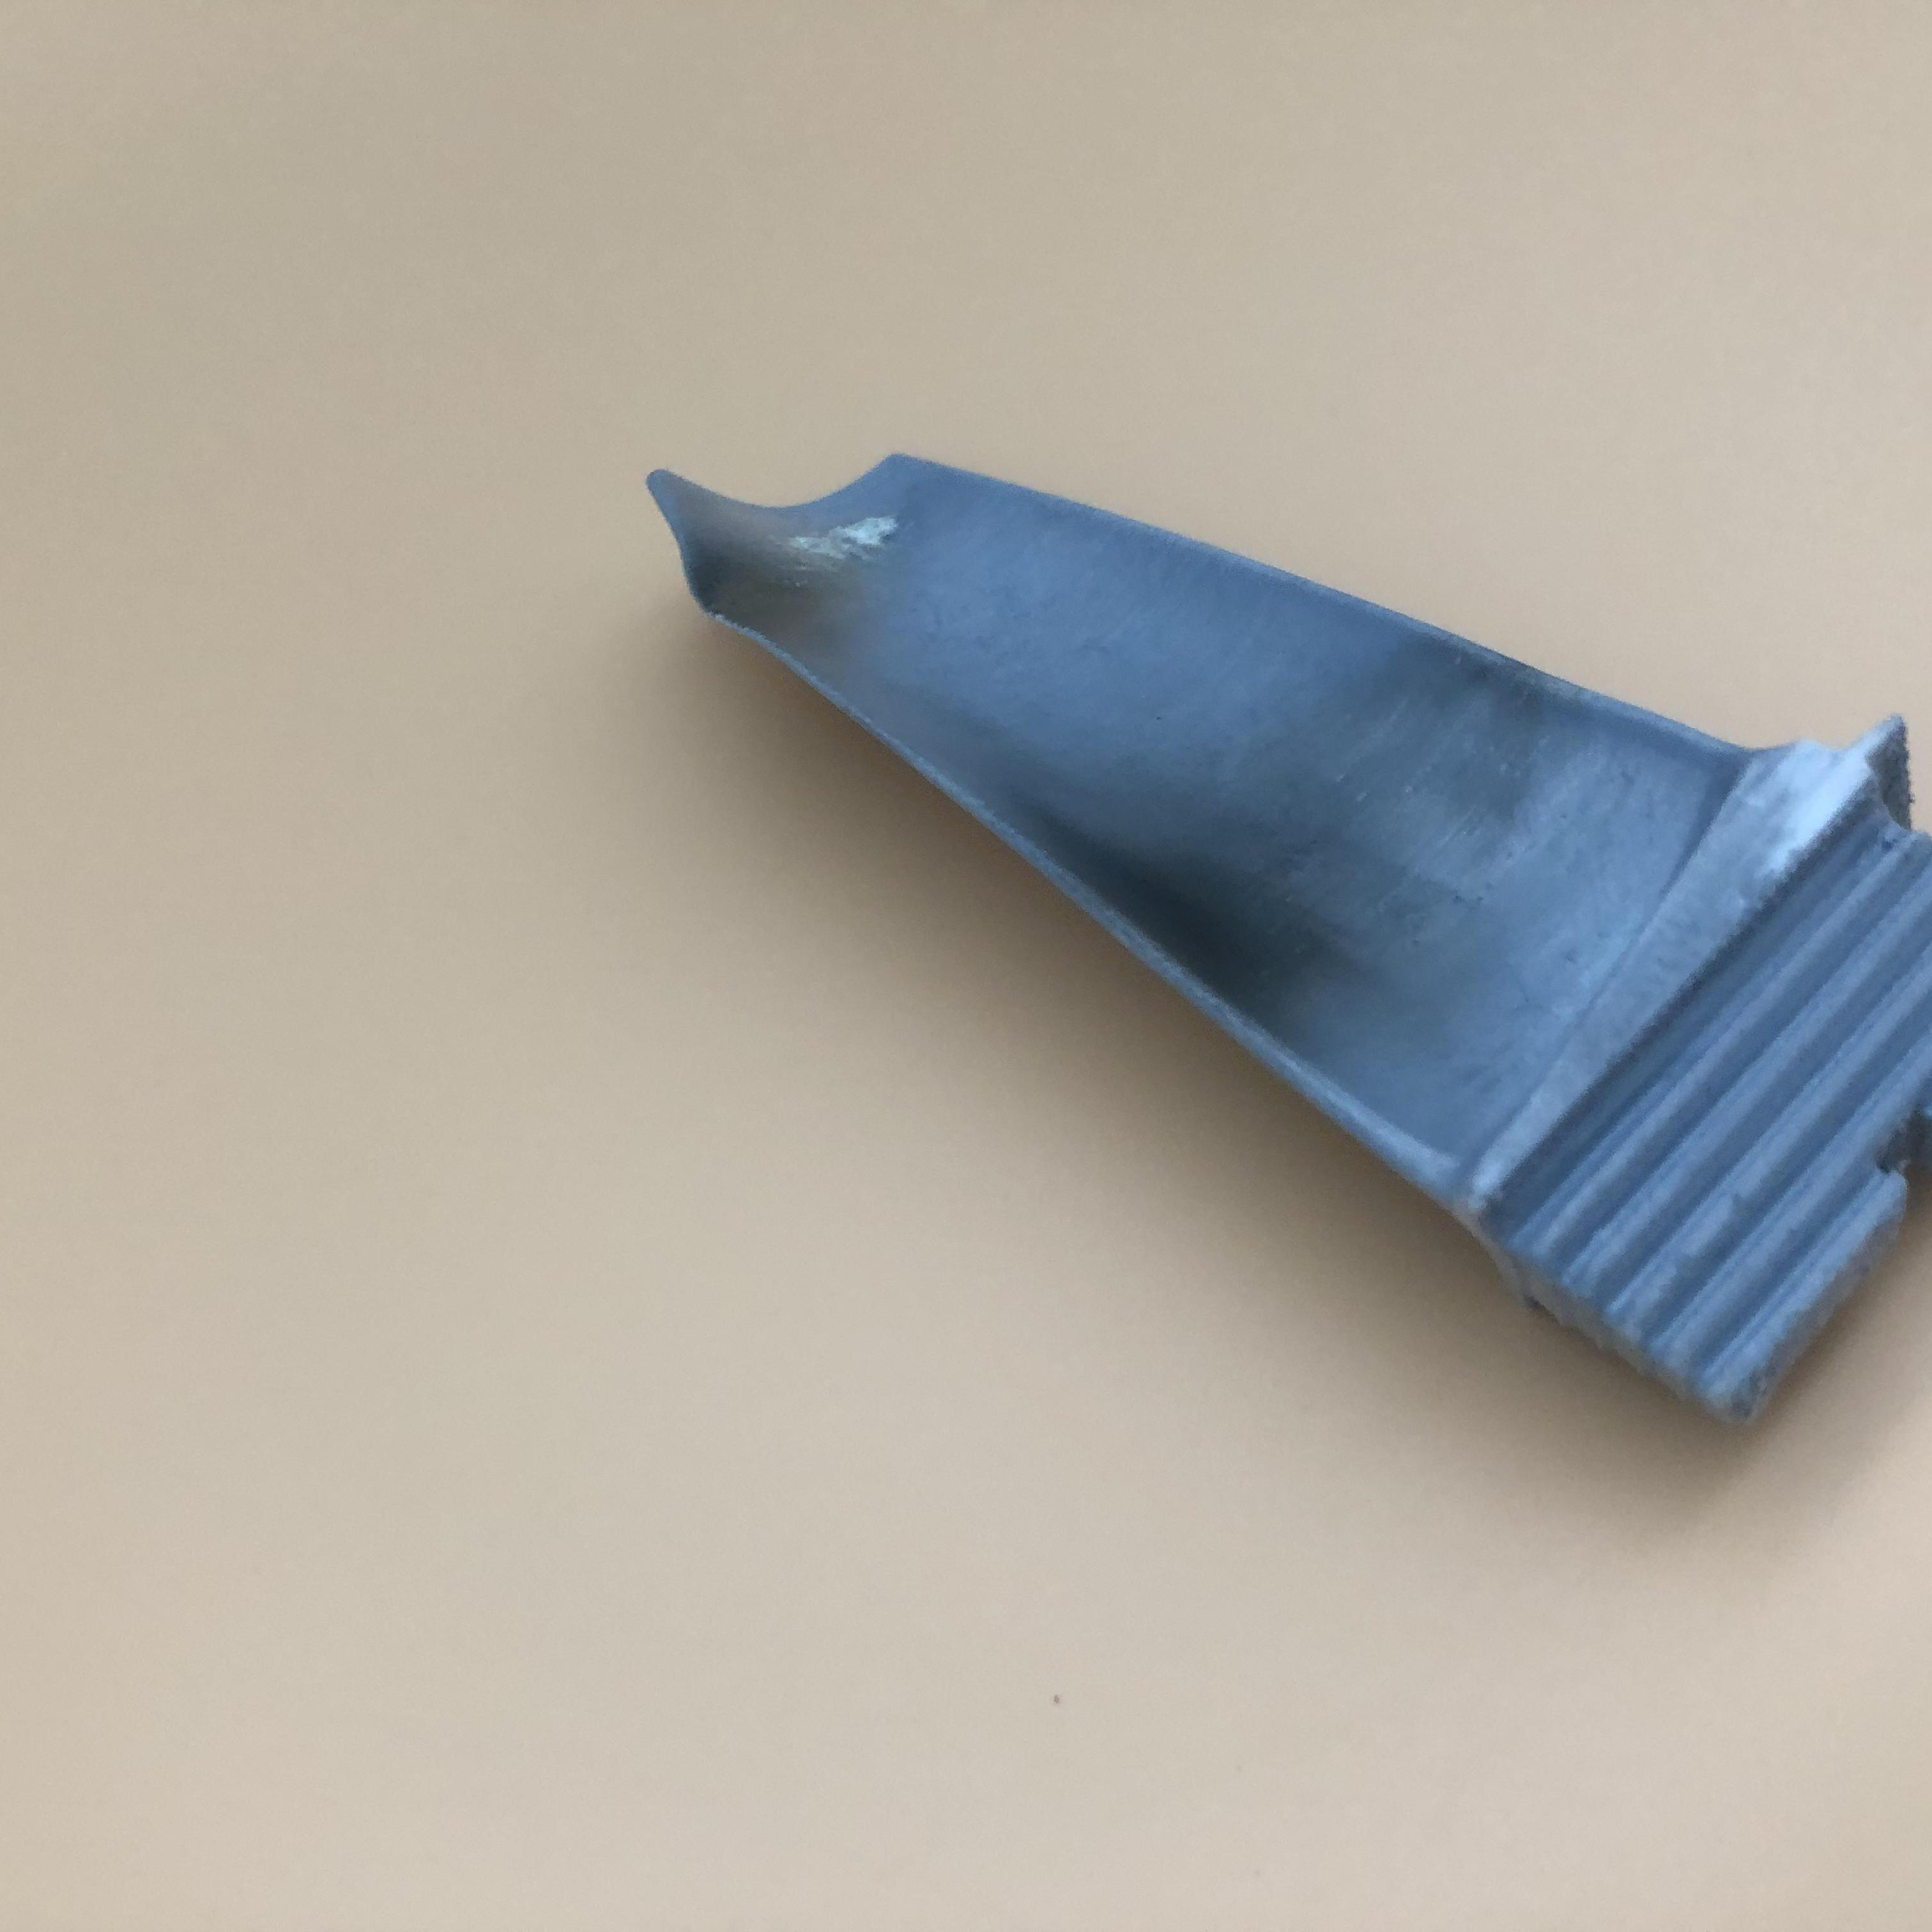ablation: (1095, 679, 1566, 987), (683, 502, 943, 635)
